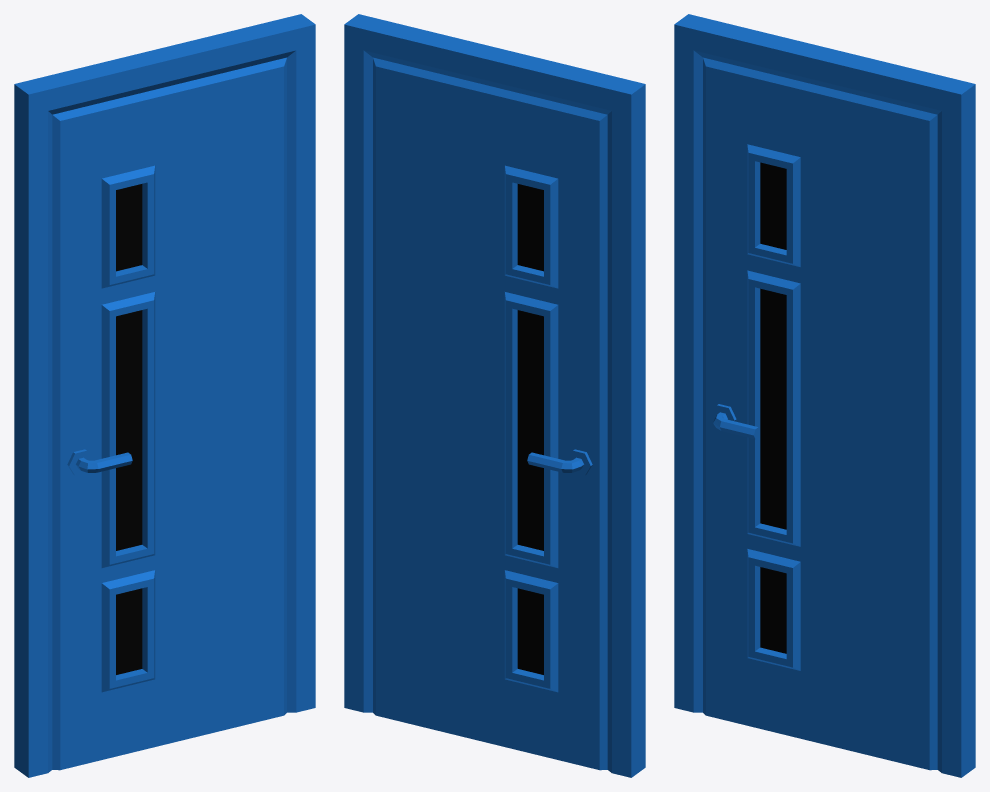
Rendered from space_door_1.fbx.
The picture shows the model from 3 angles, left to right: view 1: azimuth 30°, elevation 25°; view 2: azimuth 150°, elevation 25°; view 3: azimuth 330°, elevation 25°; orthographic projection.
Parts seen in each view (by area): view 1: Symmetry_49; view 2: Symmetry_49; view 3: Symmetry_49.
Part boxes in pixels (box(x1,y1,x2,y2)): Symmetry_49: box(14, 14, 315, 777); Symmetry_49: box(344, 14, 645, 777); Symmetry_49: box(674, 14, 975, 777).
Bounding box in the file's own units: 92.39 × 210 × 21.69.
